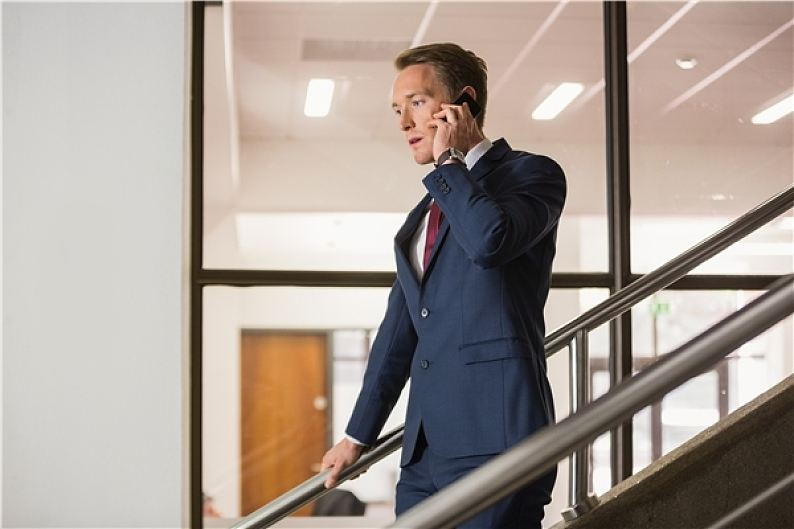calling: (426, 87, 486, 154)
